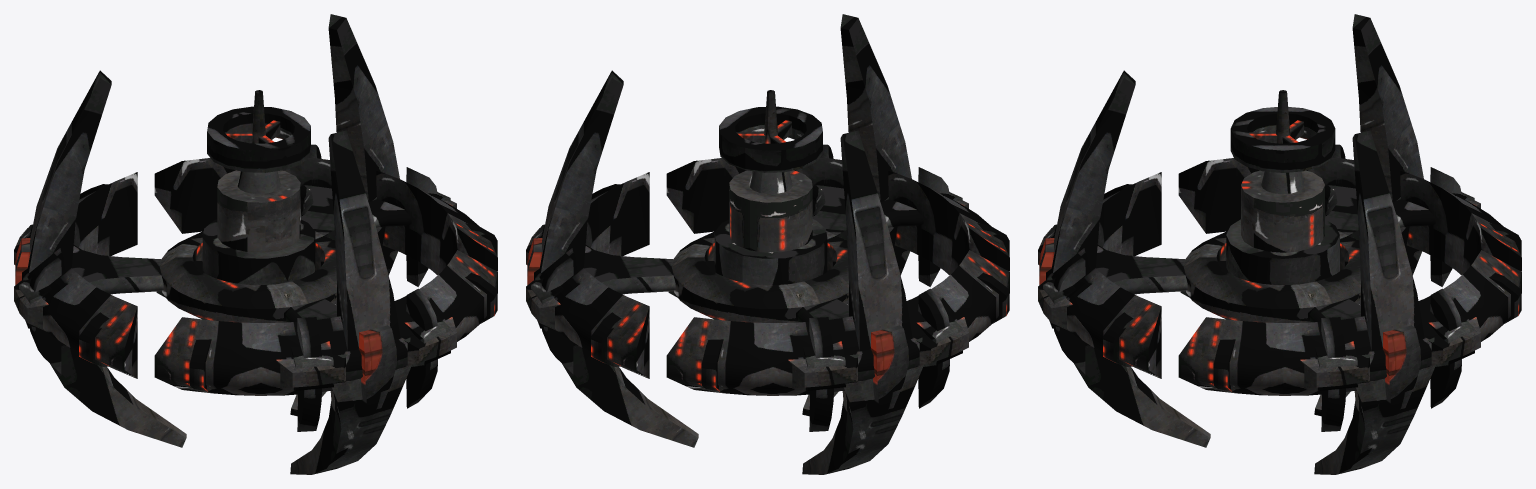
The model's file is Chukk_Station.fbx.
The picture shows the model from 3 angles, left to right: view 1: azimuth 30°, elevation 25°; view 2: azimuth 150°, elevation 25°; view 3: azimuth 270°, elevation 25°; orthographic projection.
Visible parts, largest first — view 1: 00_Core, 01_Part1, 07_Part7, 08_Part8, 04_Part4, 03_Part3, 02_Part2, 06_Part6, 05_Part5; view 2: 00_Core, 02_Part2, 01_Part1, 04_Part4, 07_Part7, 03_Part3, 08_Part8, 06_Part6, 05_Part5; view 3: 00_Core, 04_Part4, 07_Part7, 02_Part2, 01_Part1, 03_Part3, 05_Part5, 06_Part6, 08_Part8.
Part boxes in pixels (<box>): 00_Core: <box>156,90,336,322</box>; 01_Part1: <box>14,70,186,447</box>; 07_Part7: <box>284,130,456,474</box>; 08_Part8: <box>154,316,360,431</box>; 04_Part4: <box>290,14,464,416</box>; 03_Part3: <box>154,144,331,233</box>; 02_Part2: <box>14,151,137,264</box>; 06_Part6: <box>419,250,497,341</box>; 05_Part5: <box>431,197,497,275</box>; 00_Core: <box>668,90,848,322</box>; 02_Part2: <box>666,231,914,474</box>; 01_Part1: <box>803,130,1009,411</box>; 04_Part4: <box>526,70,698,447</box>; 07_Part7: <box>796,14,911,416</box>; 03_Part3: <box>526,248,649,378</box>; 08_Part8: <box>883,167,1009,286</box>; 06_Part6: <box>666,158,796,233</box>; 05_Part5: <box>591,172,649,255</box>; 00_Core: <box>1180,90,1360,322</box>; 04_Part4: <box>1283,130,1435,474</box>; 07_Part7: <box>1038,70,1210,447</box>; 02_Part2: <box>1345,86,1521,397</box>; 01_Part1: <box>1178,14,1408,416</box>; 03_Part3: <box>1418,250,1521,408</box>; 05_Part5: <box>1178,317,1283,395</box>; 06_Part6: <box>1067,272,1161,378</box>; 08_Part8: <box>1038,172,1161,264</box>.
Bounding box in the file's own units: 20025 × 16495 × 19529.
1 material, 1 textured.
